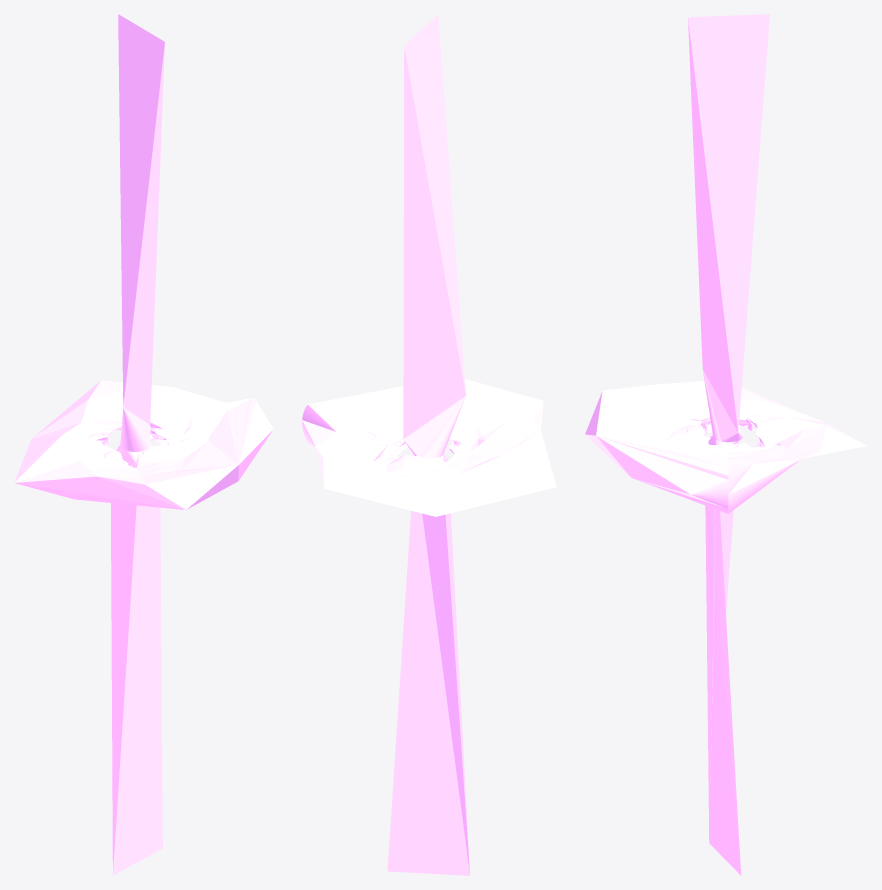
File: neb-dgtau.glb
3 views of the same model, side by side, from view 1: azimuth 30°, elevation 25°; view 2: azimuth 150°, elevation 25°; view 3: azimuth 270°, elevation 25° (orthographic).
Visible parts, largest first — view 1: DG Tau.stl; view 2: DG Tau.stl; view 3: DG Tau.stl.
Boxes of the visible parts, left/top/right/bottom form: DG Tau.stl: left=14, top=14, right=273, bottom=875; DG Tau.stl: left=302, top=14, right=556, bottom=875; DG Tau.stl: left=585, top=14, right=867, bottom=875.
Bounding box in the file's own units: 98.8 × 316 × 95.75.
